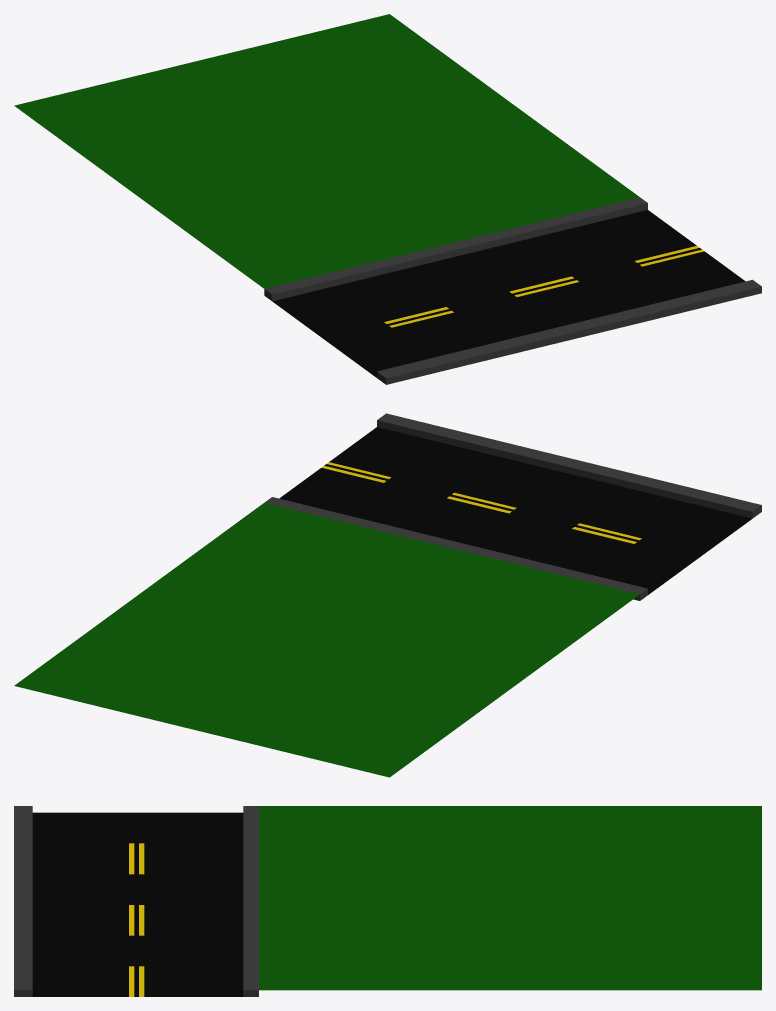
Rendered from ground 1.fbx.
The picture shows the model from 3 angles, top to bottom: view 1: azimuth 30°, elevation 25°; view 2: azimuth 150°, elevation 25°; view 3: azimuth 270°, elevation 25°; orthographic projection.
Parts seen in each view (by area): view 1: Plane.001; view 2: Plane.001; view 3: Plane.001.
Boxes of the visible parts, x1,y1,x2,y2 form: Plane.001: (14, 14, 761, 384); Plane.001: (14, 413, 761, 777); Plane.001: (14, 806, 761, 996).
Size of the model in its own units: 5121 by 88.11 by 8789.
